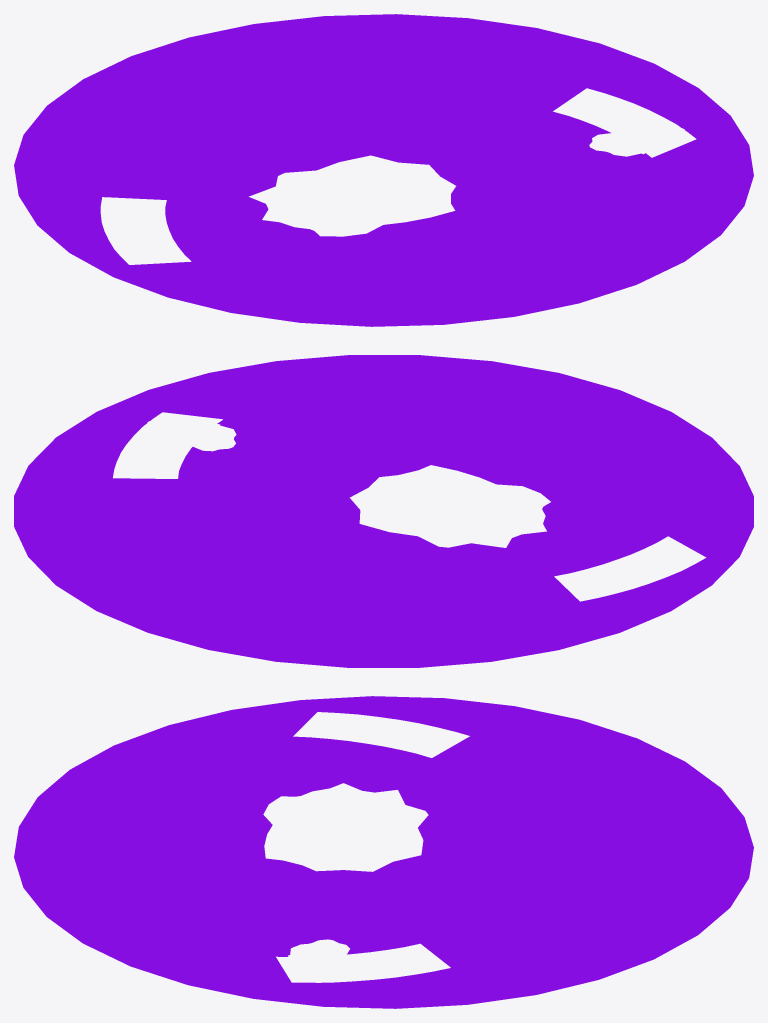
The model's file is iNFECTION.fbx.
3 views of the same model, one above another, from view 1: azimuth 30°, elevation 25°; view 2: azimuth 150°, elevation 25°; view 3: azimuth 270°, elevation 25° (orthographic).
Parts seen in each view (by area): view 1: Floor2nd_INFECTION; view 2: Floor2nd_INFECTION; view 3: Floor2nd_INFECTION.
Part boxes in pixels (box(x1,y1,x2,y2)): Floor2nd_INFECTION: box(14, 14, 753, 326); Floor2nd_INFECTION: box(14, 355, 753, 667); Floor2nd_INFECTION: box(14, 696, 753, 1008).
Bounding box in the file's own units: 51.74 × 0.00824 × 51.74.
